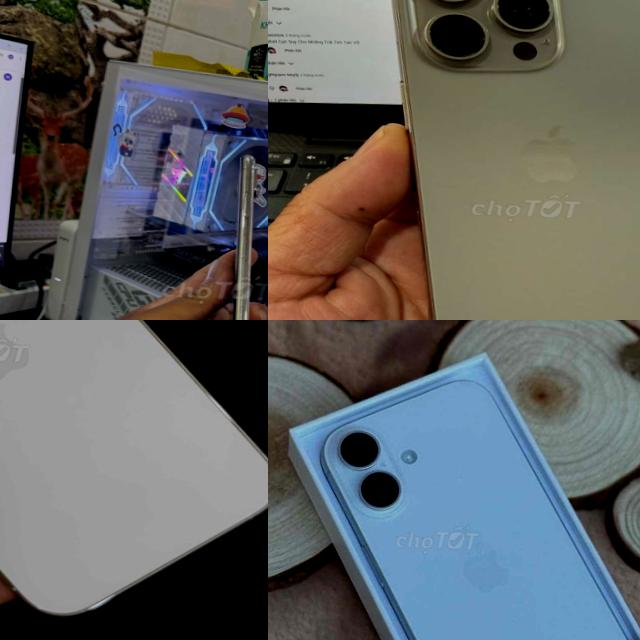gen_14: (0, 320, 268, 628)
gen_16: (364, 0, 640, 320)
gen_17: (299, 365, 640, 640)
gen_x_xs: (219, 149, 268, 320)
